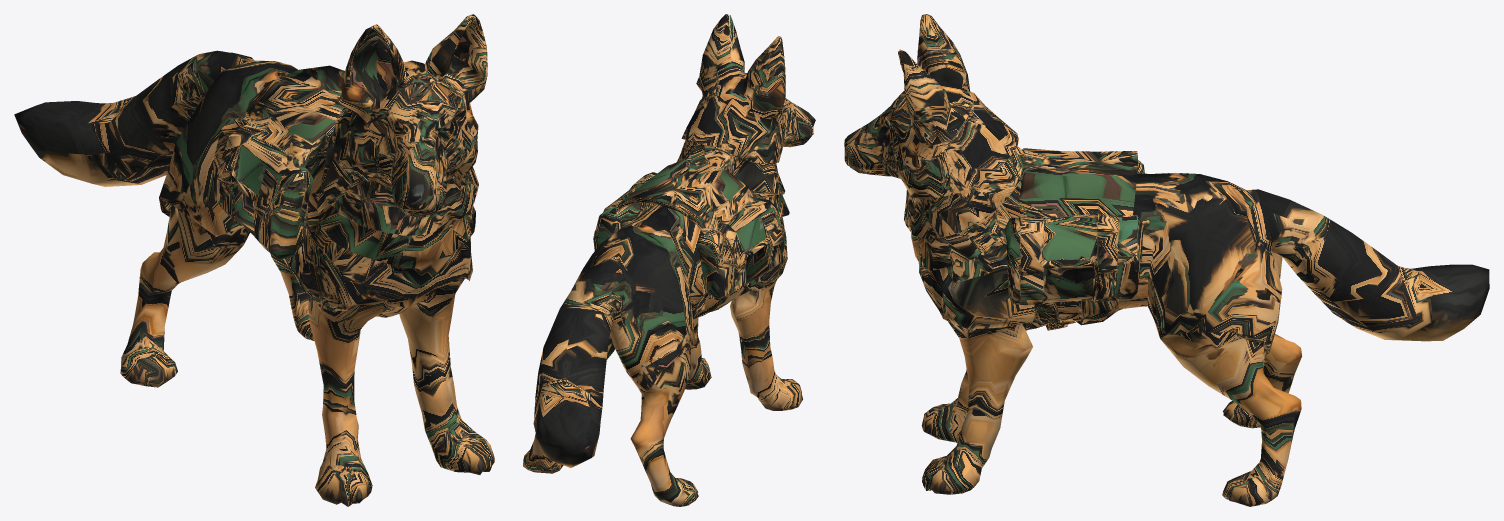
3 renders of one model, left to right at view 1: azimuth 30°, elevation 25°; view 2: azimuth 150°, elevation 25°; view 3: azimuth 270°, elevation 25°, orthographic. The views are drawn at different scales.
Parts seen in each view (by area): view 1: Mesh_0; view 2: Mesh_0; view 3: Mesh_0.
Part boxes in pixels (x1,y1,x2,y2): Mesh_0: [14, 14, 494, 506]; Mesh_0: [523, 14, 815, 506]; Mesh_0: [844, 14, 1489, 506].
Bounding box in the file's own units: 0.2991 × 0.5998 × 0.8214.
Materials: 1 (1 with a texture image).
